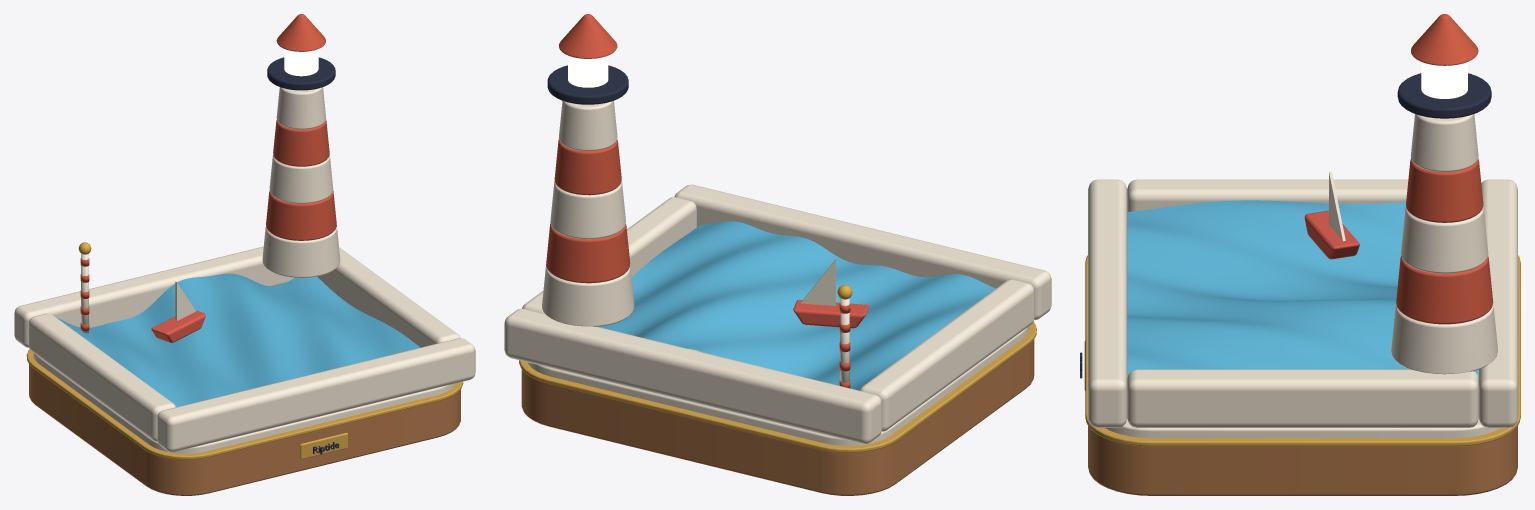
The model's file is riptide.glb.
3 views of the same model, side by side, from view 1: azimuth 30°, elevation 25°; view 2: azimuth 150°, elevation 25°; view 3: azimuth 270°, elevation 25° (orthographic). The views are drawn at different scales.
Visible parts, largest first — view 1: Riptide_Rim, Riptide_Water, Riptide, Riptide_TowerWhite, Riptide_TowerRed, Riptide_Trim, Riptide_Deck, Riptide_Gallery, Riptide_Cap, Riptide_Boat, Riptide_Lamp, Riptide_Plaque; view 2: Riptide_Rim, Riptide_Water, Riptide, Riptide_TowerWhite, Riptide_TowerRed, Riptide_Trim, Riptide_Deck, Riptide_Gallery, Riptide_Cap, Riptide_Boat, Riptide_Lamp, Riptide_Sail; view 3: Riptide_Rim, Riptide_Water, Riptide, Riptide_TowerWhite, Riptide_TowerRed, Riptide_Trim, Riptide_Deck, Riptide_Gallery, Riptide_Cap, Riptide_Lamp, Riptide_Boat, Riptide_Sail.
Part boxes in pixels (x1,y1,x2,y2): Riptide_Rim: [14, 246, 475, 452]; Riptide_Water: [56, 273, 419, 407]; Riptide: [29, 364, 460, 495]; Riptide_TowerWhite: [262, 87, 340, 277]; Riptide_TowerRed: [266, 120, 336, 240]; Riptide_Trim: [26, 349, 463, 459]; Riptide_Deck: [33, 353, 455, 453]; Riptide_Gallery: [267, 57, 335, 90]; Riptide_Cap: [276, 14, 325, 51]; Riptide_Boat: [151, 310, 205, 342]; Riptide_Lamp: [284, 49, 318, 76]; Riptide_Plaque: [300, 432, 348, 459]; Riptide_Rim: [504, 184, 1051, 443]; Riptide_Water: [598, 221, 995, 390]; Riptide: [521, 339, 1034, 495]; Riptide_TowerWhite: [542, 100, 634, 326]; Riptide_TowerRed: [546, 139, 630, 283]; Riptide_Trim: [519, 322, 1036, 452]; Riptide_Deck: [528, 326, 1029, 445]; Riptide_Gallery: [547, 65, 628, 104]; Riptide_Cap: [559, 14, 617, 58]; Riptide_Boat: [793, 300, 869, 328]; Riptide_Lamp: [568, 55, 608, 87]; Riptide_Sail: [801, 259, 835, 305]; Riptide_Rim: [1088, 179, 1517, 427]; Riptide_Water: [1127, 200, 1478, 378]; Riptide: [1088, 426, 1517, 495]; Riptide_TowerWhite: [1391, 114, 1497, 374]; Riptide_TowerRed: [1396, 158, 1493, 324]; Riptide_Trim: [1085, 255, 1520, 446]; Riptide_Deck: [1105, 419, 1500, 438]; Riptide_Gallery: [1397, 73, 1491, 118]; Riptide_Cap: [1411, 14, 1478, 65]; Riptide_Lamp: [1421, 62, 1467, 98]; Riptide_Boat: [1304, 210, 1359, 259]; Riptide_Sail: [1329, 171, 1345, 241].
Bounding box in the file's own units: 5.06 × 5.1 × 4.51.
